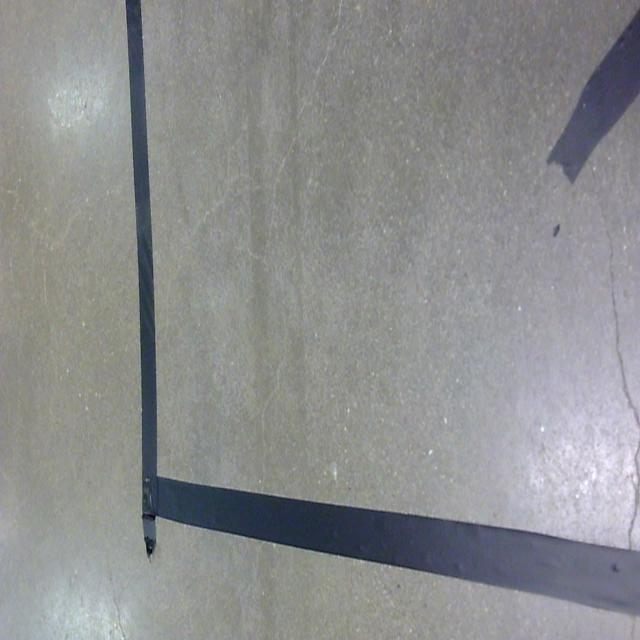tape: (112, 0, 640, 639), (530, 0, 640, 210)
